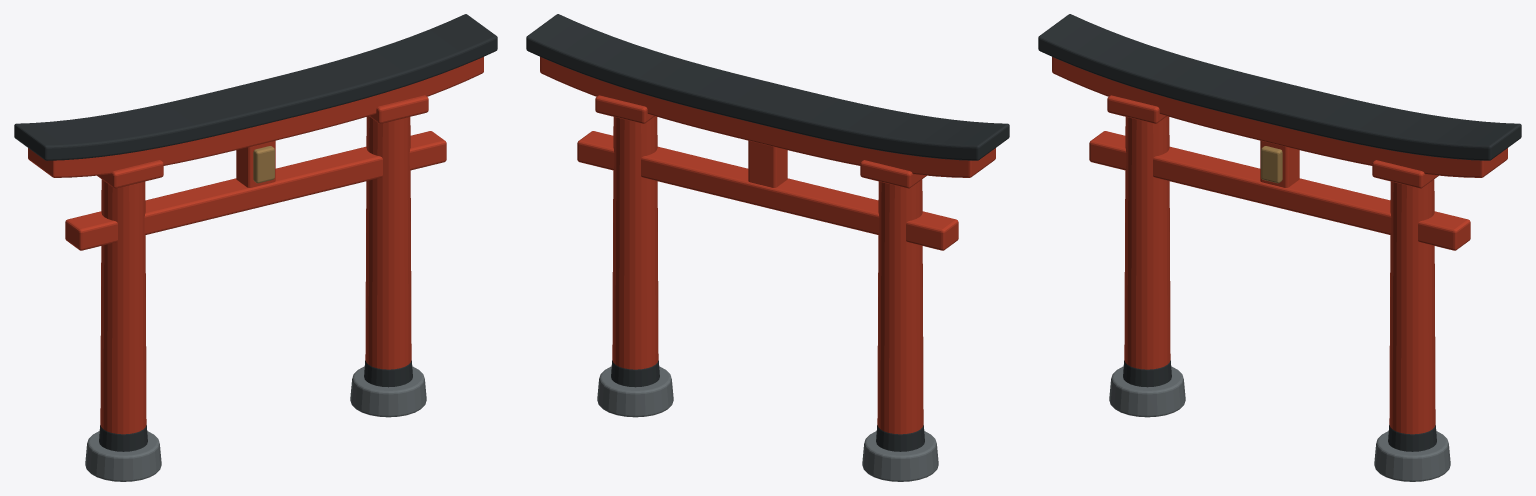
File: NEW_RECOVERY_123_LOD0.fbx
The picture shows the model from 3 angles, left to right: view 1: azimuth 30°, elevation 25°; view 2: azimuth 150°, elevation 25°; view 3: azimuth 330°, elevation 25°; orthographic projection.
Parts seen in each view (by area): view 1: Torii gate continuous solid; view 2: Torii gate continuous solid; view 3: Torii gate continuous solid.
Part boxes in pixels (box(x1,y1,x2,y2)): Torii gate continuous solid: box(14, 14, 497, 481); Torii gate continuous solid: box(526, 14, 1009, 481); Torii gate continuous solid: box(1038, 14, 1521, 481).
Size of the model in its own units: 530 by 77.58 by 396.
